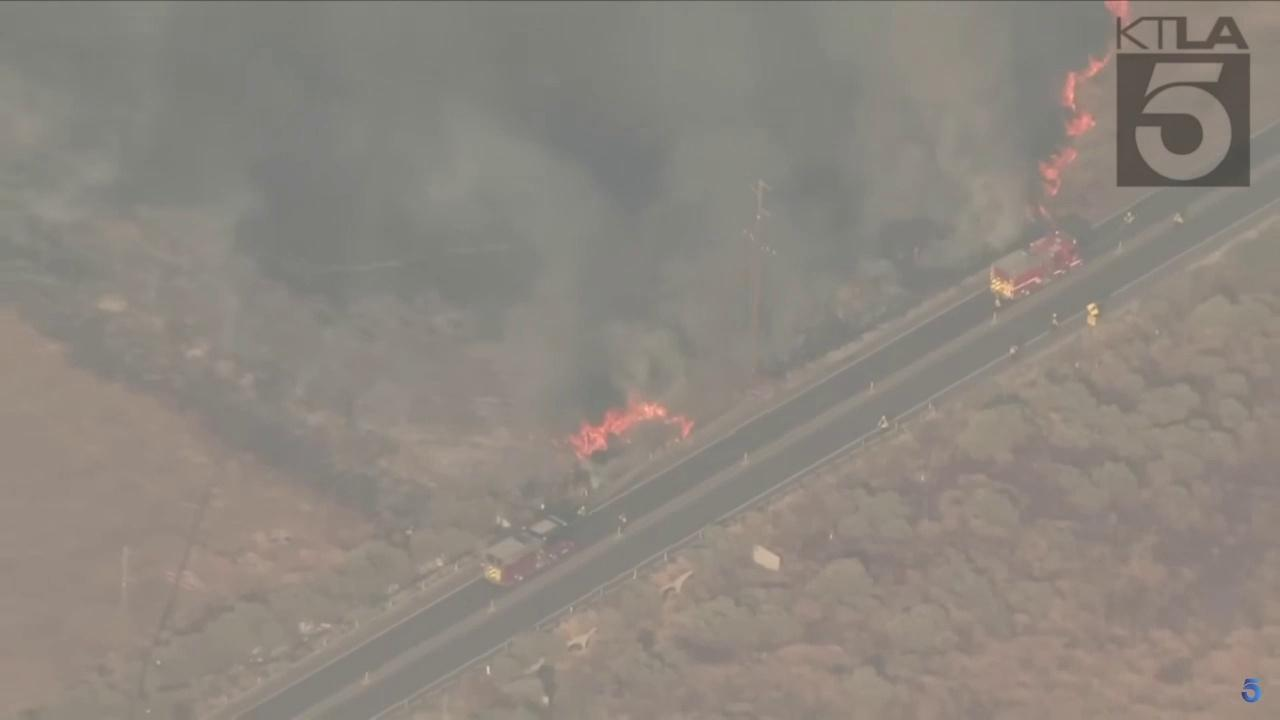fire: (1036, 49, 1114, 199), (567, 392, 696, 465), (1107, 0, 1131, 24)
smoke: (0, 0, 1105, 491)
